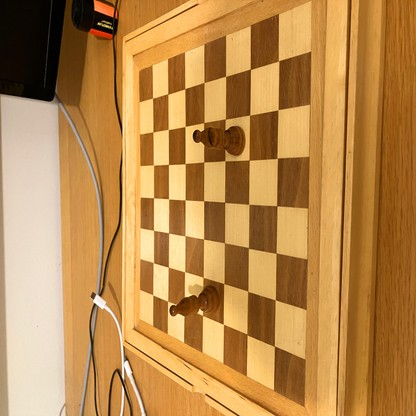bishop_black: (192, 126, 246, 157), (170, 286, 220, 316)
